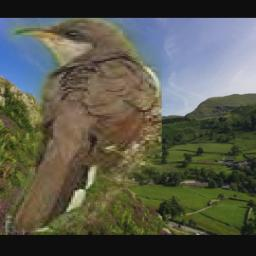Cuckoo: (5, 18, 162, 232)
